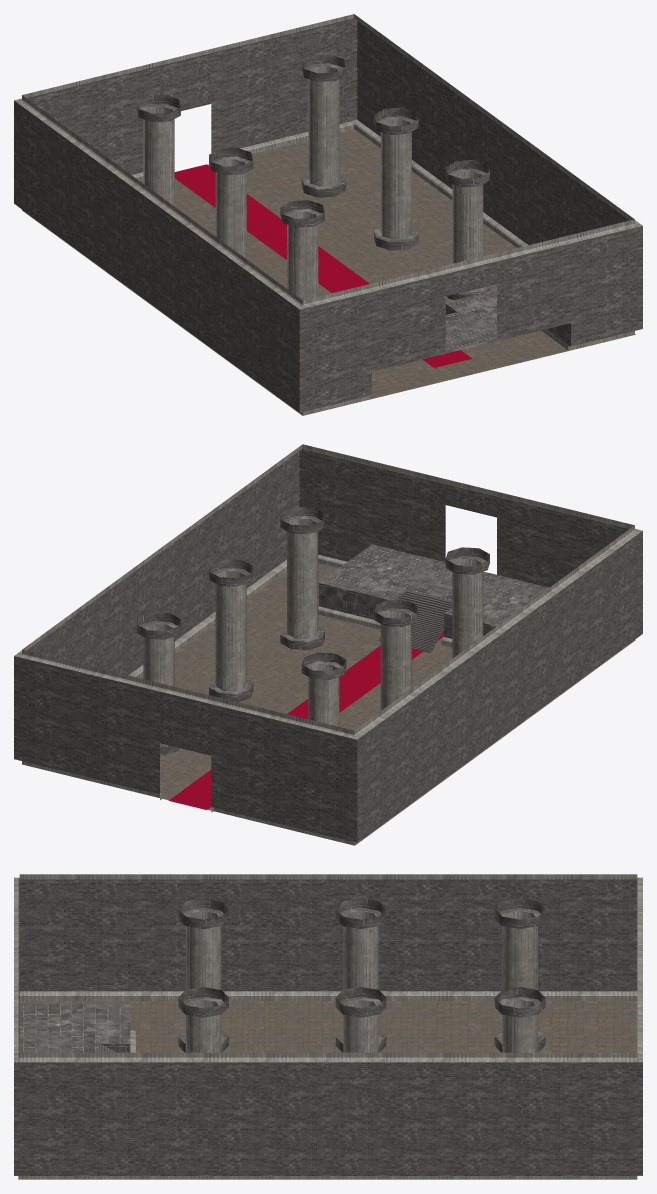
The model's file is large_hall.fbx.
3 renders of one model, top to bottom at view 1: azimuth 30°, elevation 25°; view 2: azimuth 150°, elevation 25°; view 3: azimuth 270°, elevation 25°, orthographic. The views are drawn at different scales.
Visible parts, largest first — view 1: wall_3, Pillar, floor5, carpet; view 2: wall_3, Pillar, floor5, carpet, Stairs; view 3: wall_3, floor5, Pillar.
Boxes of the visible parts, x1,y1,x2,y2 form: wall_3: [14, 14, 642, 415]; Pillar: [136, 54, 489, 300]; floor5: [22, 129, 635, 415]; carpet: [174, 164, 471, 367]; wall_3: [14, 444, 642, 845]; Pillar: [136, 507, 489, 755]; floor5: [140, 563, 635, 845]; carpet: [169, 630, 443, 809]; Stairs: [378, 590, 452, 652]; wall_3: [14, 874, 642, 1179]; floor5: [18, 1001, 637, 1179]; Pillar: [178, 898, 545, 1052].
Bounding box in the file's own units: 2338 × 811 × 3369.
